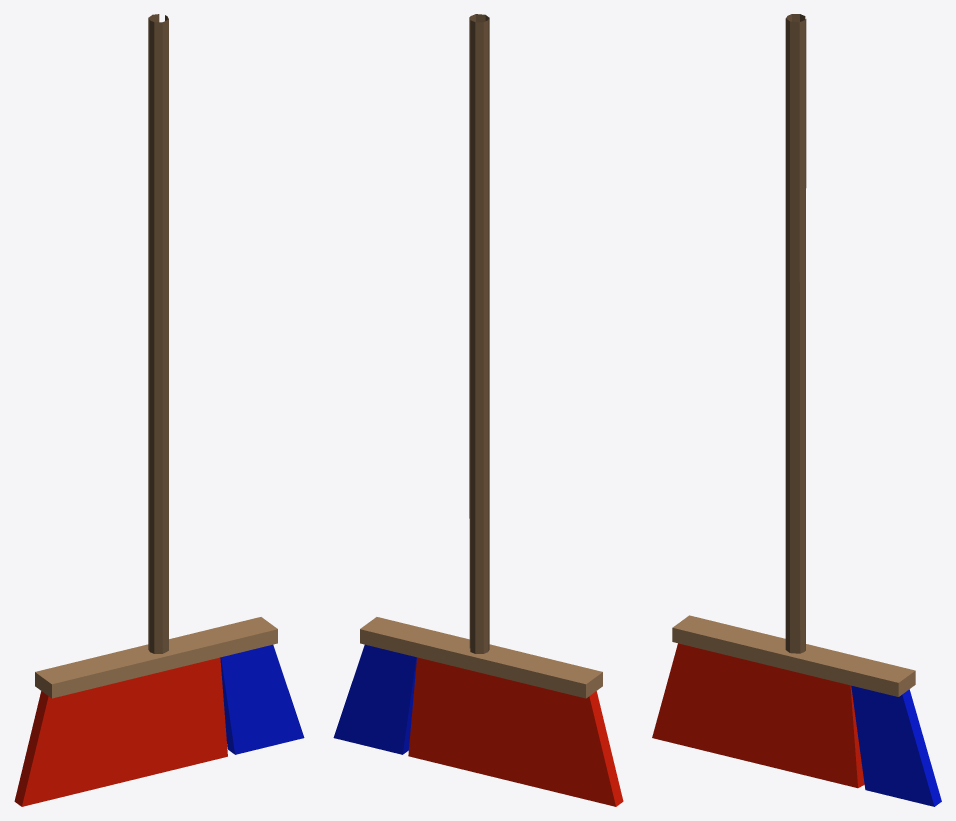
File: Escoba.fbx
3 views of the same model, side by side, from view 1: azimuth 30°, elevation 25°; view 2: azimuth 150°, elevation 25°; view 3: azimuth 330°, elevation 25° (orthographic).
Parts seen in each view (by area): view 1: Cilindro; view 2: Cilindro; view 3: Cilindro.
Boxes of the visible parts, x1=… form: Cilindro: x1=14, y1=14, x2=304, y2=806; Cilindro: x1=333, y1=14, x2=623, y2=806; Cilindro: x1=652, y1=14, x2=941, y2=806.
Size of the model in its own units: 396 by 1005 by 41.07.
